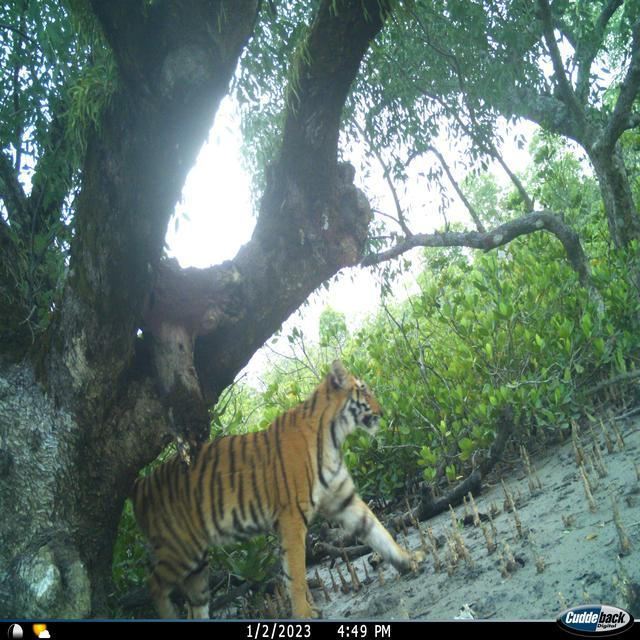tiger: (127, 357, 423, 620)
